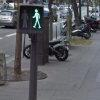Motorcycle: (24, 39, 75, 66)
